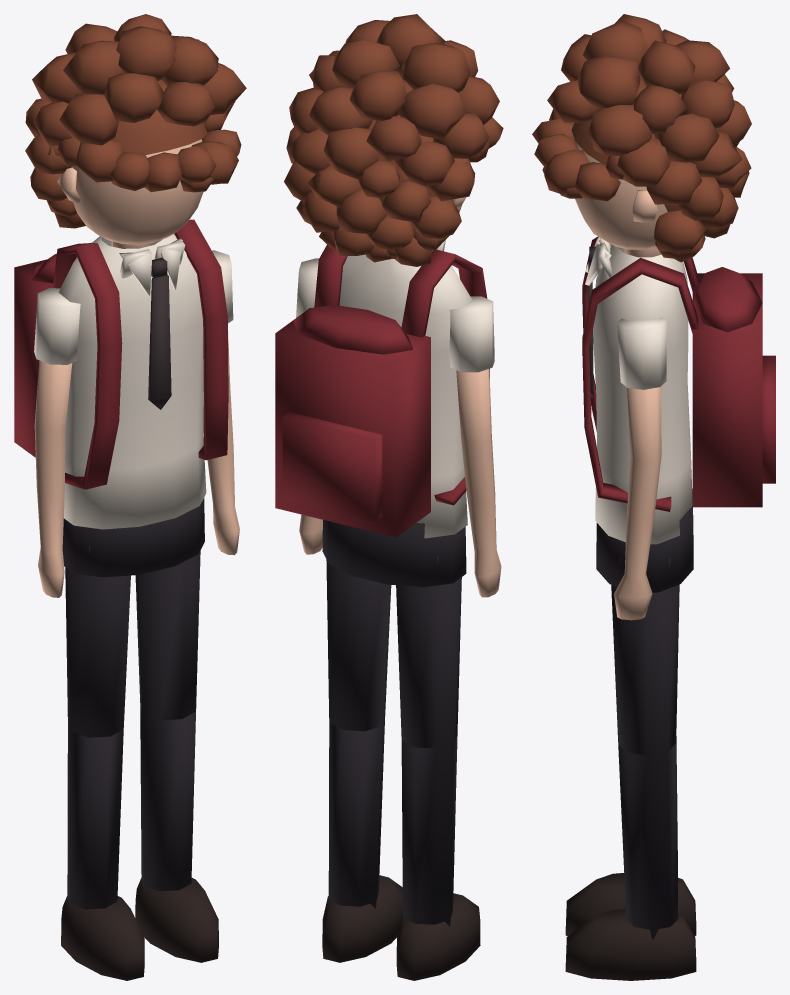
File: lance.glb
The picture shows the model from 3 angles, left to right: view 1: azimuth 30°, elevation 25°; view 2: azimuth 150°, elevation 25°; view 3: azimuth 270°, elevation 25°; orthographic projection.
Parts seen in each view (by area): view 1: Body, Hair, Head; view 2: Body, Hair; view 3: Body, Hair, Head.
Boxes of the visible parts, box(x1,y1,x2,y2) form: Body: box(14, 219, 239, 980); Hair: box(25, 14, 246, 228); Head: box(57, 139, 203, 248); Body: box(275, 240, 501, 980); Hair: box(284, 14, 503, 266); Body: box(565, 236, 775, 980); Hair: box(532, 14, 751, 262); Head: box(573, 139, 667, 257).
Size of the model in its own units: 0.42 by 1.9 by 0.4547.
